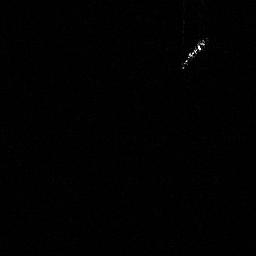ship: (179, 33, 211, 71)
